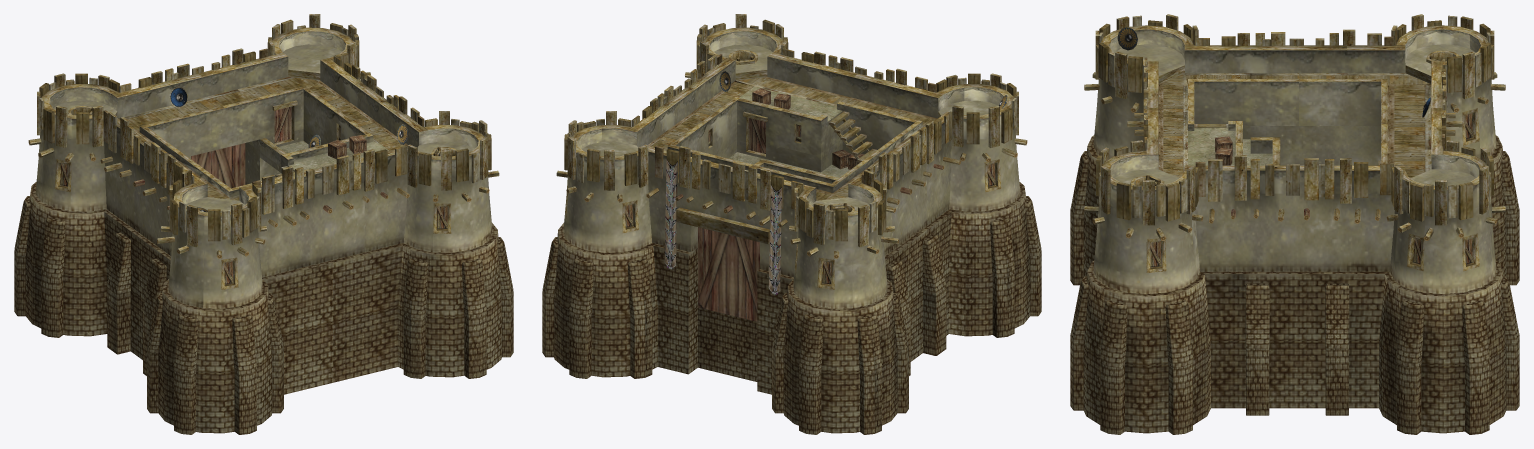
Rendered from iber_fortress.glb.
3 views of the same model, side by side, from view 1: azimuth 30°, elevation 25°; view 2: azimuth 150°, elevation 25°; view 3: azimuth 270°, elevation 25° (orthographic). The views are drawn at different scales.
Visible parts, largest first — view 1: iber_fortress_part0, iber_fortress_part1; view 2: iber_fortress_part0; view 3: iber_fortress_part0, iber_fortress_part1.
Boxes of the visible parts, x1=… form: iber_fortress_part0: x1=14, y1=14, x2=513, y2=434; iber_fortress_part1: x1=169, y1=87, x2=408, y2=212; iber_fortress_part0: x1=542, y1=14, x2=1041, y2=434; iber_fortress_part0: x1=1070, y1=14, x2=1519, y2=434; iber_fortress_part1: x1=1117, y1=27, x2=1431, y2=117.
Size of the model in its own units: 5.8 by 3.68 by 6.
Materials: 2 (2 with a texture image).
